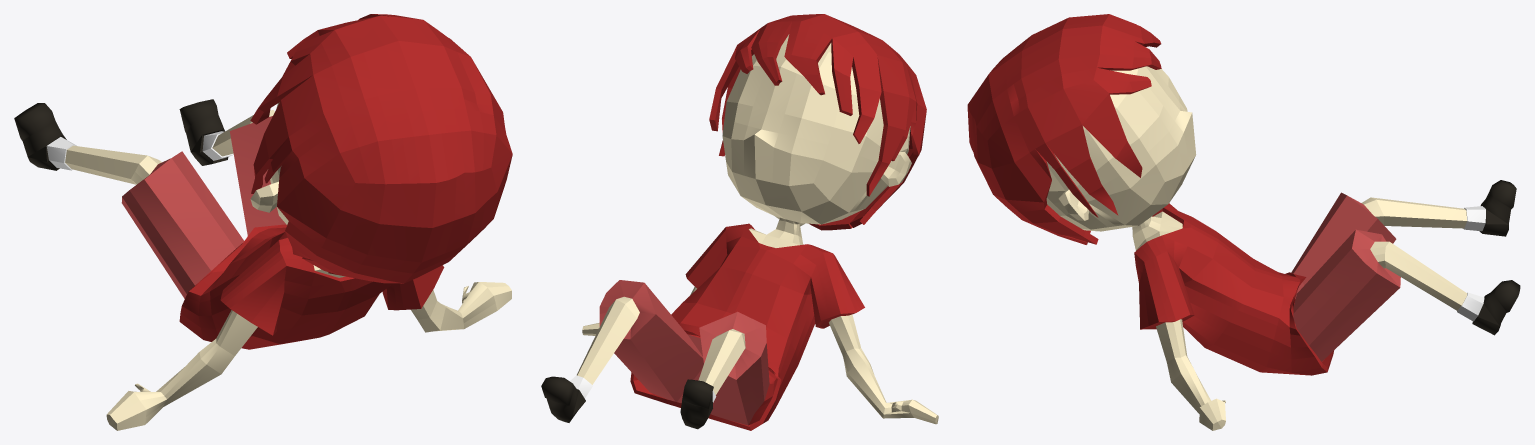
File: rockCarCharacter.dae
3 renders of one model, left to right at view 1: azimuth 30°, elevation 25°; view 2: azimuth 150°, elevation 25°; view 3: azimuth 270°, elevation 25°, orthographic. The views are drawn at different scales.
Visible parts, largest first — view 1: Character; view 2: Character; view 3: Character.
Part boxes in pixels (x1=…): Character: x1=14, y1=14, x2=512, y2=430; Character: x1=541, y1=14, x2=938, y2=430; Character: x1=967, y1=14, x2=1520, y2=430.
Bounding box in the file's own units: 7.8 × 7.18 × 10.53.
1 material, 1 textured.
